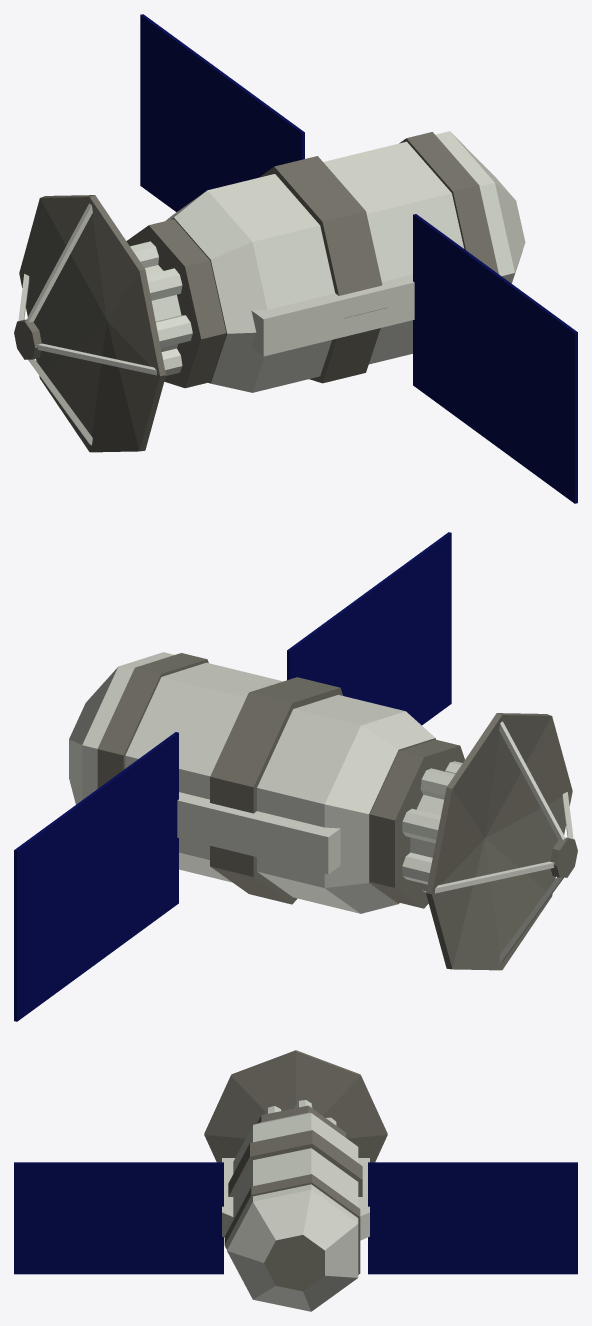
The model's file is satellite_3.fbx.
3 renders of one model, top to bottom at view 1: azimuth 30°, elevation 25°; view 2: azimuth 150°, elevation 25°; view 3: azimuth 270°, elevation 25°, orthographic. The views are drawn at different scales.
Parts seen in each view (by area): view 1: satellite_3; view 2: satellite_3; view 3: satellite_3.
Part boxes in pixels (bbox=[...]): satellite_3: bbox=[14, 14, 577, 503]; satellite_3: bbox=[14, 532, 577, 1021]; satellite_3: bbox=[14, 1050, 577, 1311].
Size of the model in its own units: 566 by 291 by 895.
